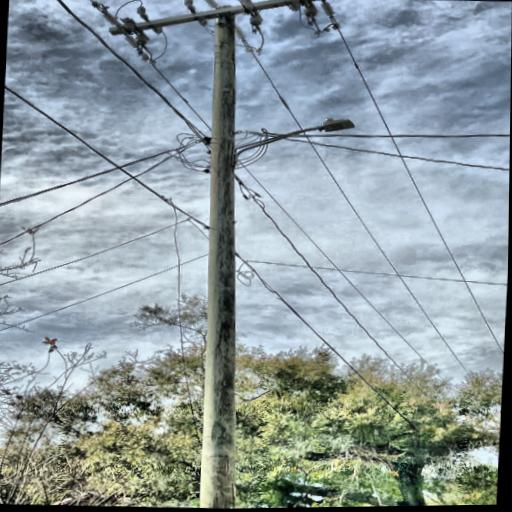pole: (174, 0, 277, 509)
street light: (228, 112, 354, 173)
